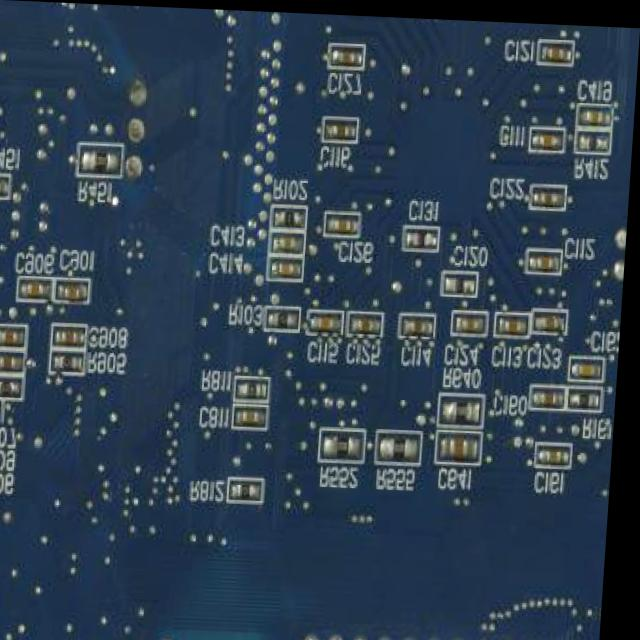capacitor: (453, 431, 476, 454), (539, 126, 559, 145), (581, 357, 602, 374), (550, 442, 569, 460), (338, 45, 357, 63), (30, 281, 49, 299), (65, 327, 84, 345), (586, 103, 606, 120), (331, 119, 351, 136), (65, 284, 85, 301), (4, 329, 24, 346), (541, 186, 560, 203), (538, 250, 557, 267), (320, 312, 339, 329), (465, 311, 484, 328), (4, 354, 23, 371), (543, 386, 563, 402), (280, 232, 300, 248), (359, 315, 379, 331), (411, 315, 431, 331), (246, 407, 266, 423), (337, 213, 355, 230), (507, 313, 527, 328), (548, 40, 566, 56), (280, 258, 299, 273), (545, 311, 563, 326), (0, 178, 6, 196)
pins: (310, 625, 554, 640)
resistor: (336, 431, 363, 457), (392, 431, 417, 458), (454, 394, 479, 420), (91, 150, 118, 173), (247, 379, 268, 399), (276, 309, 298, 328), (579, 385, 600, 404), (282, 205, 303, 224), (242, 478, 263, 497), (3, 378, 23, 397), (63, 352, 83, 371)
